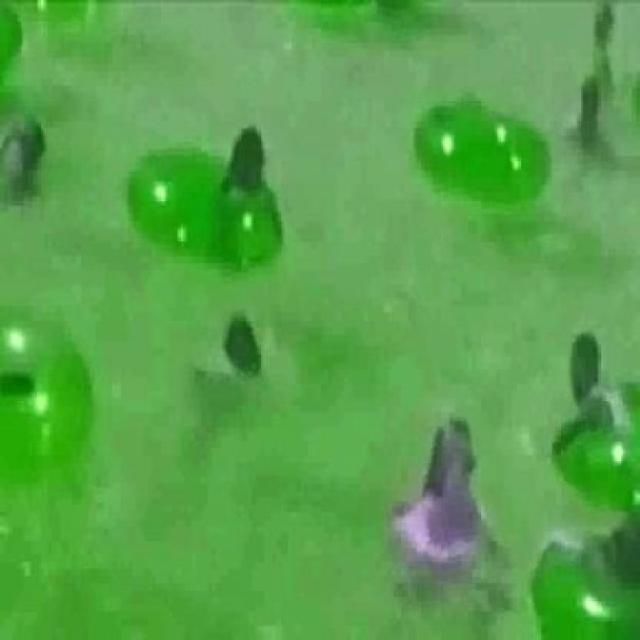drowning: (385, 401, 497, 594), (569, 82, 623, 207), (0, 117, 52, 211), (209, 307, 253, 391), (591, 3, 627, 100)
